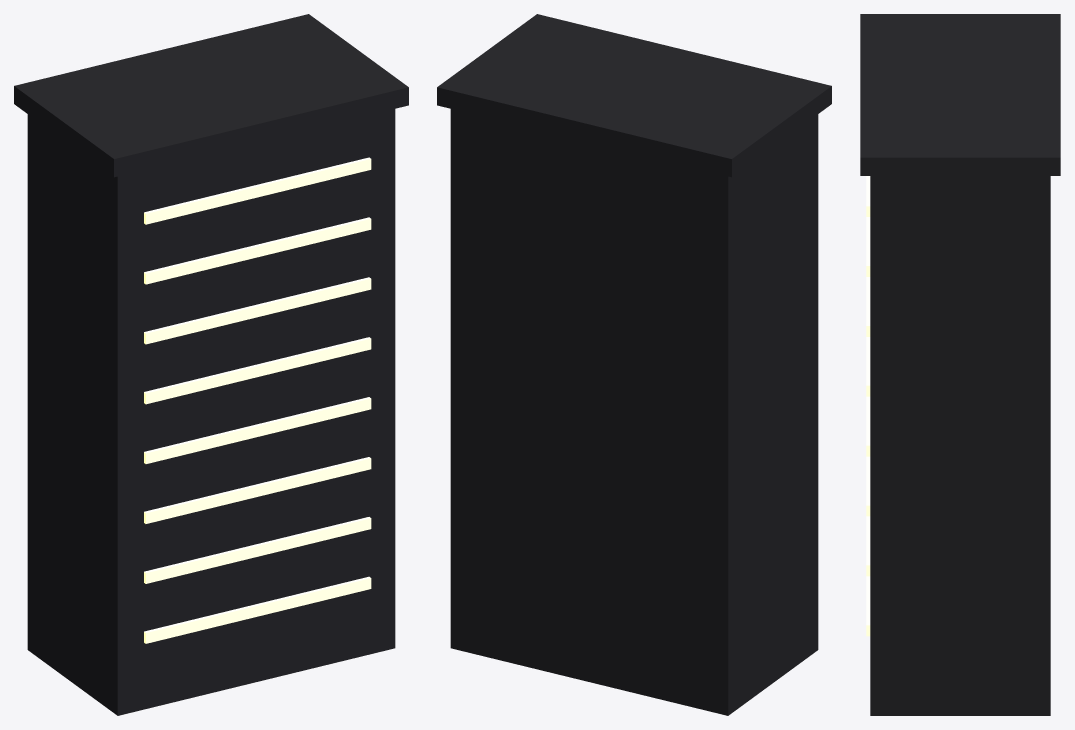
The model's file is miner_rig.glb.
The picture shows the model from 3 angles, left to right: view 1: azimuth 30°, elevation 25°; view 2: azimuth 150°, elevation 25°; view 3: azimuth 270°, elevation 25°; orthographic projection.
Parts seen in each view (by area): view 1: rack, slots; view 2: rack; view 3: rack, slots.
Boxes of the visible parts, left/top/right/bottom form: rack: left=14, top=14, right=408, bottom=715; slots: left=144, top=157, right=371, bottom=643; rack: left=437, top=14, right=831, bottom=715; rack: left=860, top=14, right=1060, bottom=715; slots: left=866, top=176, right=870, bottom=636.
Size of the model in its own units: 1.7 by 3.1 by 1.
